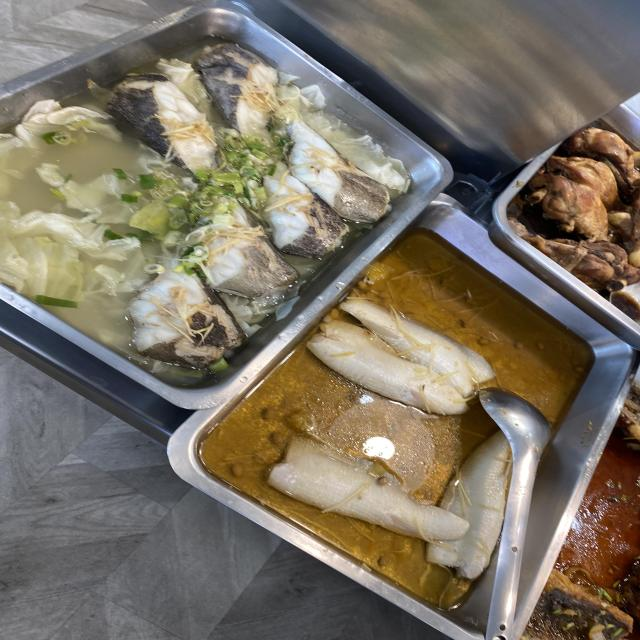Steamed fish: (101, 80, 318, 267)
